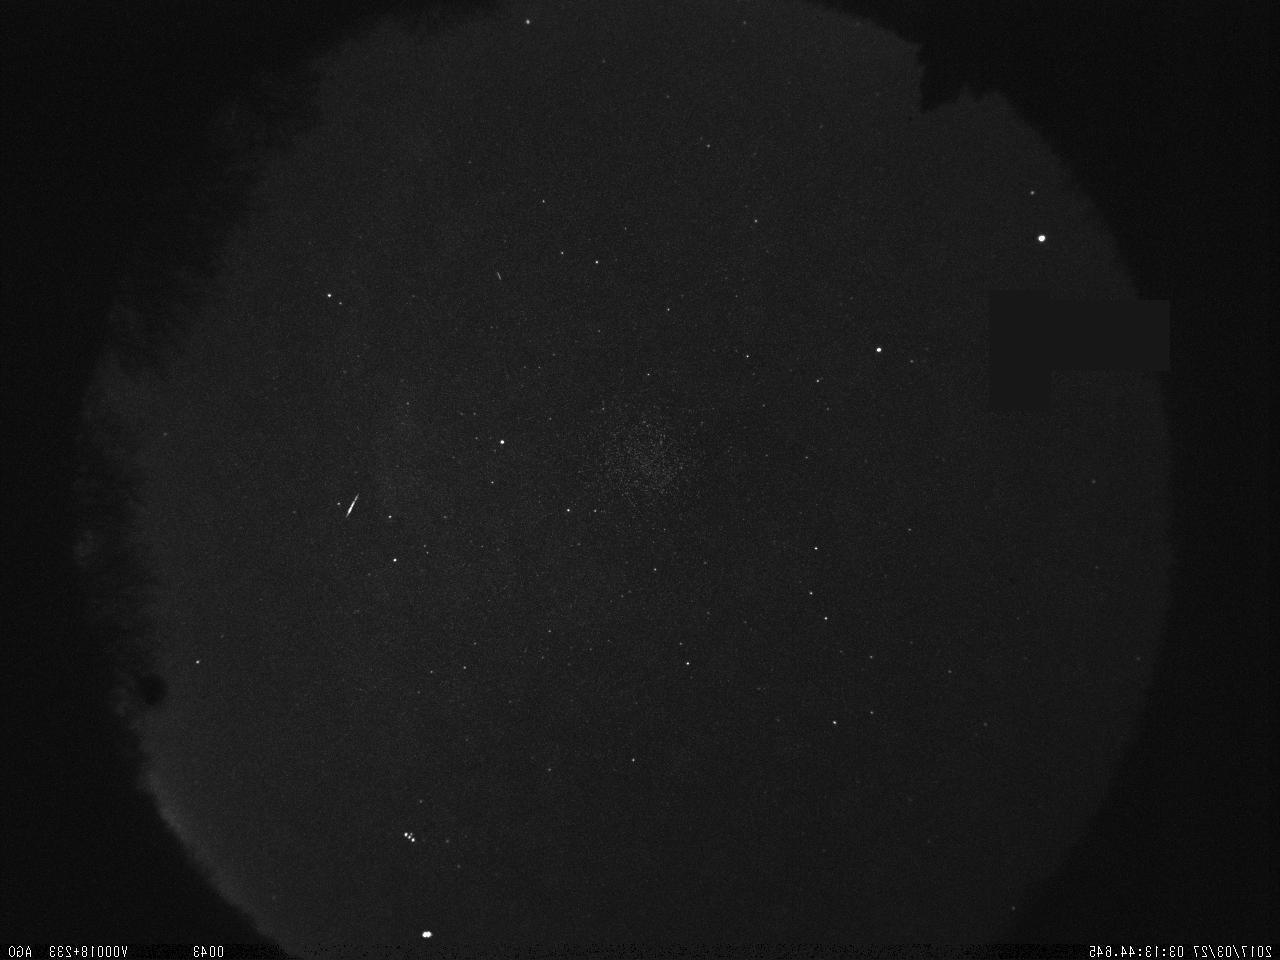meteor: (338, 487, 366, 526)
